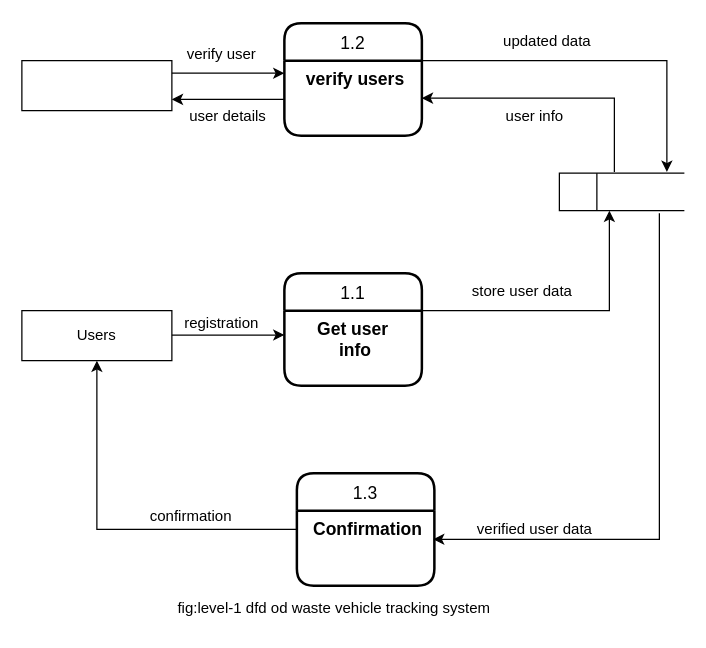
This 706x648 diagram has some shape labels left out. The centre of each missing label's shape, as x and y in pixels:
"D3 user details" belongs at [621,191].
"Manager" belongs at [96,85].
